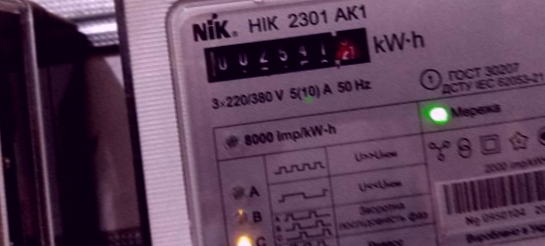0: (215, 47, 230, 69), (235, 43, 250, 65)
1: (316, 31, 329, 55)
2: (255, 39, 272, 62)
4: (296, 33, 309, 56)
5: (275, 37, 291, 61)
6: (339, 44, 352, 58)
screen: (190, 13, 384, 89)
